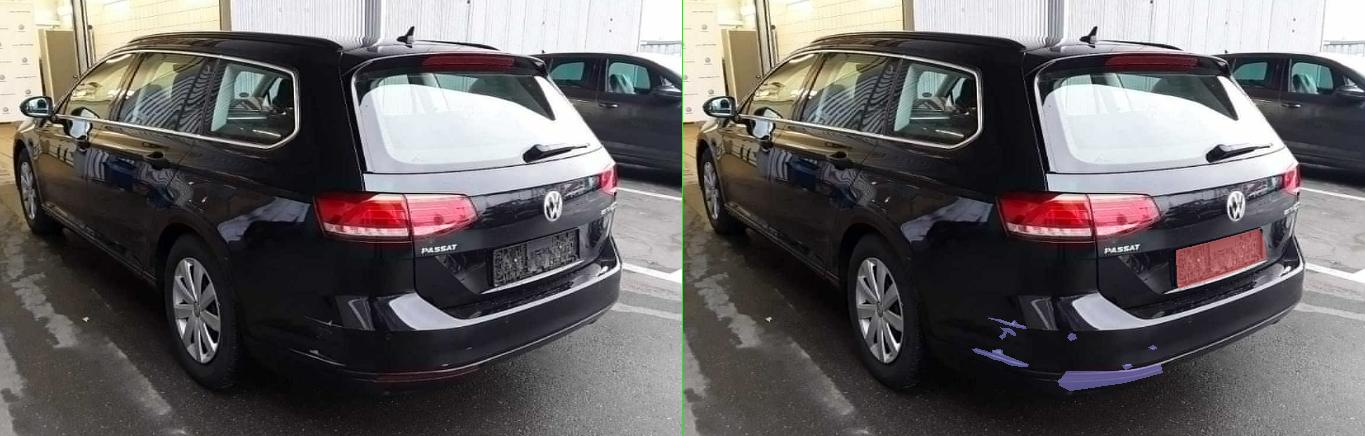Missing part: (987, 229, 1167, 288)
Scratch: (751, 364, 959, 390), (578, 348, 691, 366), (610, 318, 687, 328), (632, 327, 664, 339), (769, 333, 787, 340), (879, 364, 899, 369), (931, 345, 947, 349)
